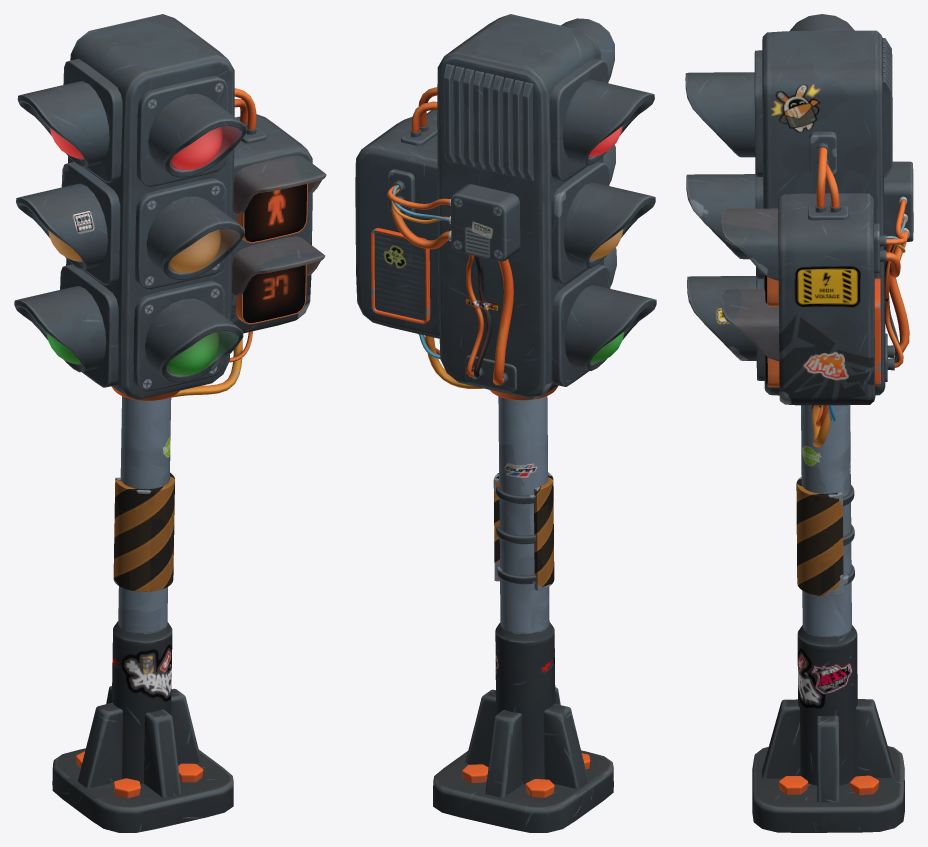
The model's file is stylized_traffic_light.glb.
The picture shows the model from 3 angles, left to right: view 1: azimuth 30°, elevation 25°; view 2: azimuth 150°, elevation 25°; view 3: azimuth 270°, elevation 25°; orthographic projection.
Visible parts, largest first — view 1: 4.low.001; view 2: 4.low.001; view 3: 4.low.001.
Boxes of the visible parts, x1,y1,x2,y2 form: 4.low.001: (14,14,326,832); 4.low.001: (355,14,656,832); 4.low.001: (685,14,913,832).
Size of the model in its own units: 0.8701 by 2.34 by 0.6392.
Materials: 1 (1 with a texture image).
